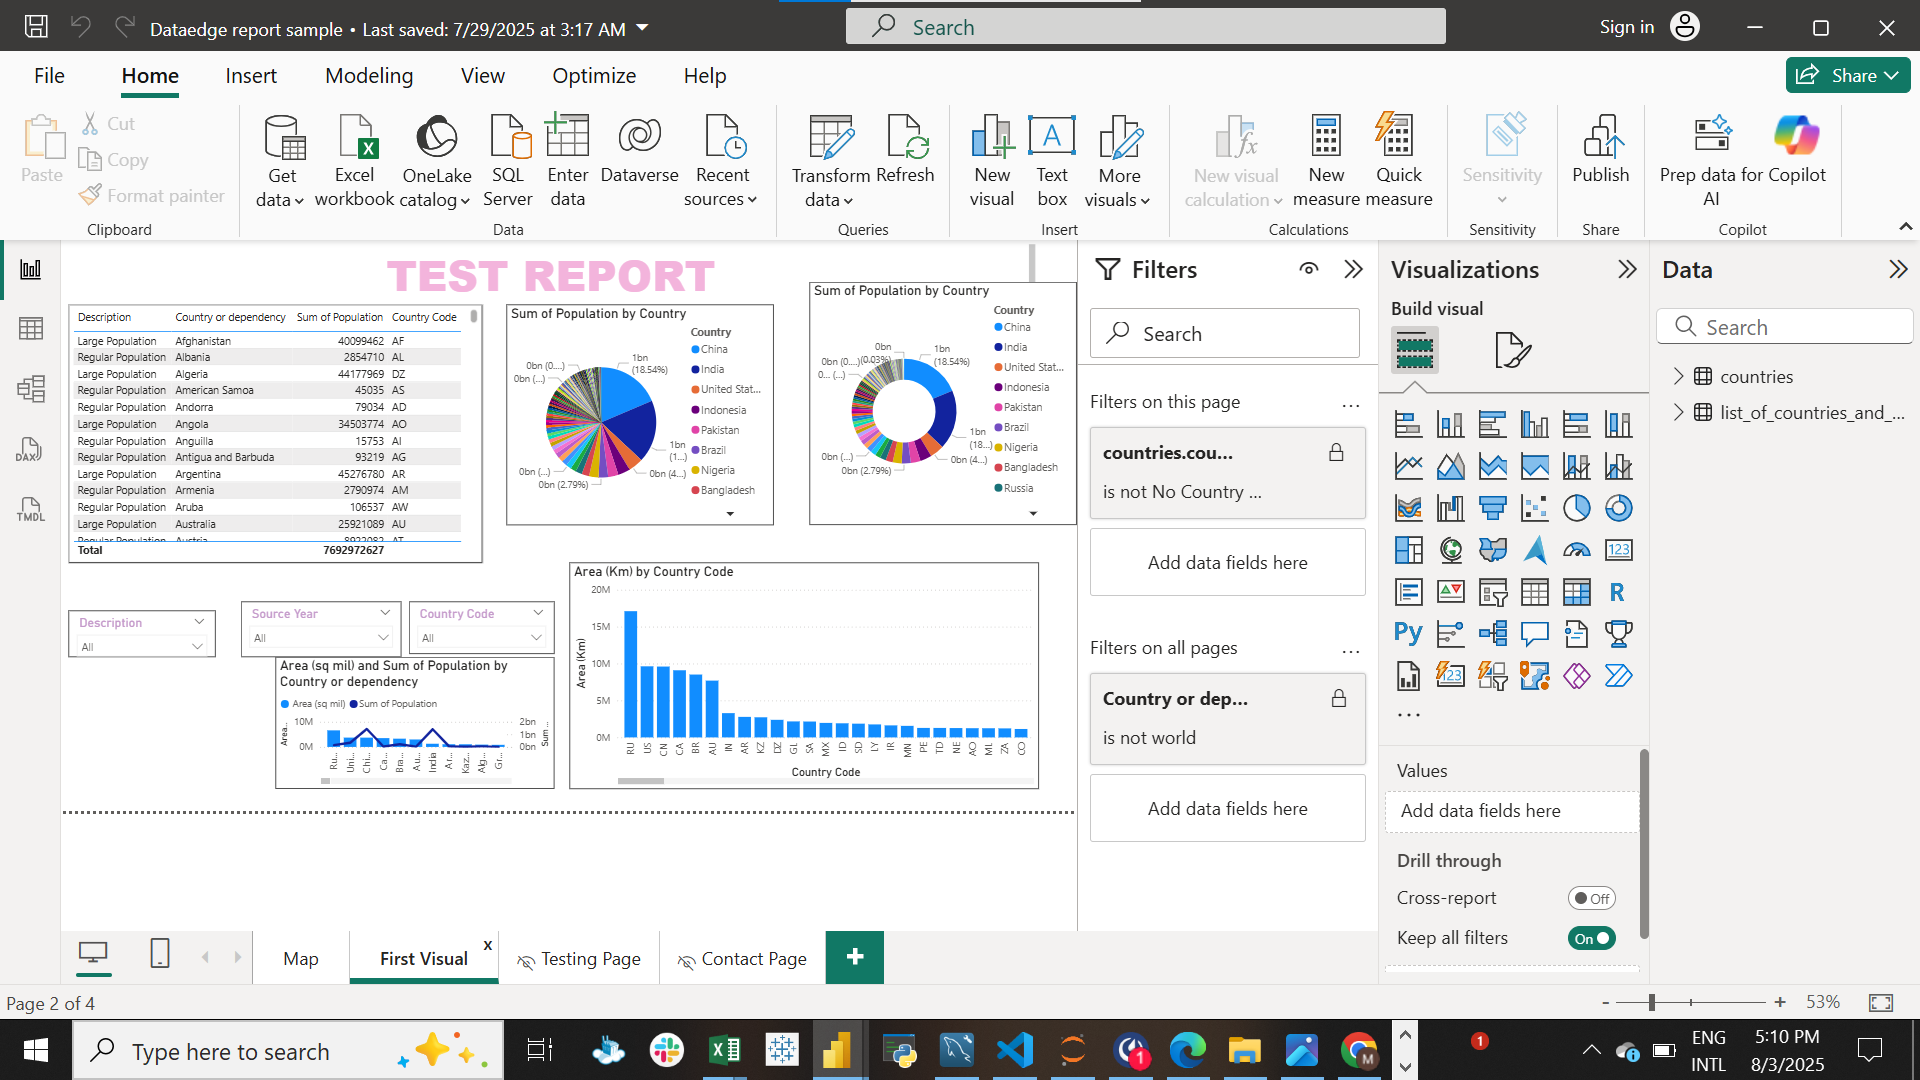

What the dashboard file says about the page in this screenshot:
{"tool":"powerbi","page":{"name":"First Visual","canvas":[1280,720],"ordinal":1},"visuals":[{"type":"textbox","box":[9.4,0,1222.7,81.3],"z":0},{"type":"textbox","box":[9,180.5,1223,150],"z":1000},{"type":"tableEx","fields":{"Values":["list_of_countries_and_dependencies.Description","list_of_countries_and_dependencies.Country or dependency","Sum(list_of_countries_and_dependencies.Population)","list_of_countries_and_dependencies.countries.country"]},"box":[9.4,81.3,521.6,325],"z":2000},{"type":"slicer","fields":{"Values":["list_of_countries_and_dependencies.Source Year"]},"box":[226.8,455.4,202.2,69.9],"z":3000},{"type":"slicer","fields":{"Values":["list_of_countries_and_dependencies.countries.country"]},"box":[438.4,455.4,183.3,66.1],"z":4000},{"type":"slicer","fields":{"Values":["list_of_countries_and_dependencies.Description"]},"box":[9.4,466.8,185.2,58.6],"z":5000},{"type":"pieChart","fields":{"Y":["Sum(list_of_countries_and_dependencies.Population)"],"Category":["list_of_countries_and_dependencies.Country or dependency"]},"box":[561.3,81.3,336.4,277.8],"z":6000},{"type":"donutChart","fields":{"Y":["Sum(list_of_countries_and_dependencies.Population)"],"Category":["list_of_countries_and_dependencies.Country or dependency"]},"box":[943,52.9,336.4,306.1],"z":7000},{"type":"columnChart","fields":{"Y":["Sum(list_of_countries_and_dependencies.Area (Km))"],"Category":["list_of_countries_and_dependencies.countries.country"]},"box":[640.6,406.3,591.5,285.4],"z":8000},{"type":"lineStackedColumnComboChart","fields":{"Y":["Sum(list_of_countries_and_dependencies.Area (sq mil))"],"Category":["list_of_countries_and_dependencies.Country or dependency"],"Y2":["Sum(list_of_countries_and_dependencies.Population)"]},"box":[270.2,525.4,351.5,166.3],"z":9000}]}

Visuals, with their boxes on the page's 1280x720 design canvas (x1, y1, x2, y2). These are canvas units, not pixel positions in the 1920x1080 screenshot, which may show the page scaled, cropped or inside an application window:
textbox: left=9, top=0, right=1232, bottom=81
textbox: left=9, top=180, right=1232, bottom=330
tableEx - list_of_countries_and_dependencies.Description x list_of_countries_and_dependencies.Country or dependency: left=9, top=81, right=531, bottom=406
slicer - list_of_countries_and_dependencies.Source Year: left=227, top=455, right=429, bottom=525
slicer - list_of_countries_and_dependencies.countries.country: left=438, top=455, right=622, bottom=522
slicer - list_of_countries_and_dependencies.Description: left=9, top=467, right=195, bottom=525
pieChart - Sum(list_of_countries_and_dependencies.Population) x list_of_countries_and_dependencies.Country or dependency: left=561, top=81, right=898, bottom=359
donutChart - Sum(list_of_countries_and_dependencies.Population) x list_of_countries_and_dependencies.Country or dependency: left=943, top=53, right=1279, bottom=359
columnChart - Sum(list_of_countries_and_dependencies.Area (Km)) x list_of_countries_and_dependencies.countries.country: left=641, top=406, right=1232, bottom=692
lineStackedColumnComboChart - Sum(list_of_countries_and_dependencies.Area (sq mil)) x list_of_countries_and_dependencies.Country or dependency: left=270, top=525, right=622, bottom=692
